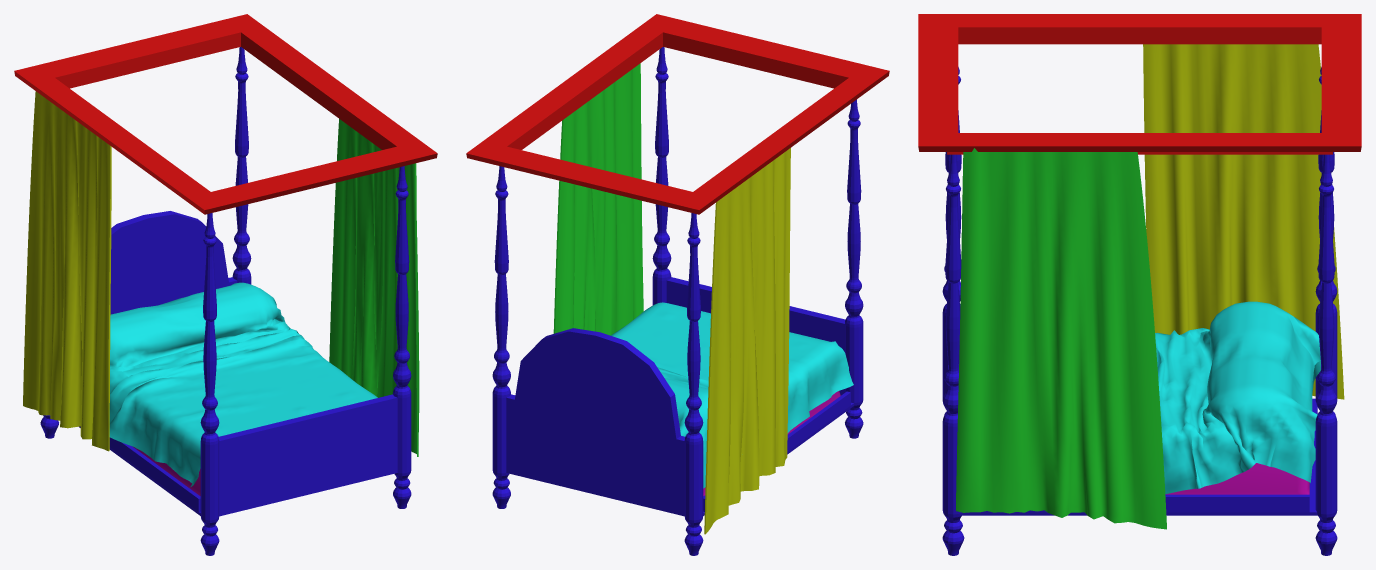
The model's file is Bed002.FBX.
3 renders of one model, left to right at view 1: azimuth 30°, elevation 25°; view 2: azimuth 150°, elevation 25°; view 3: azimuth 270°, elevation 25°, orthographic. The views are drawn at different scales.
Visible parts, largest first — view 1: bed_frame, bed_cover, bed_curtain, top_bed, bed_curtain2; view 2: bed_frame, bed_curtain, top_bed, bed_curtain2, bed_cover; view 3: bed_curtain2, bed_curtain, top_bed, bed_cover, bed_frame, mattress.
Part boxes in pixels (box(x1,y1,x2,y2)): bed_frame: box(40, 47, 411, 555); bed_cover: box(109, 282, 377, 486); bed_curtain: box(23, 91, 111, 451); top_bed: box(14, 14, 437, 214); bed_curtain2: box(329, 119, 419, 456); bed_frame: box(492, 47, 863, 555); bed_curtain: box(704, 148, 790, 534); top_bed: box(466, 14, 889, 214); bed_curtain2: box(553, 63, 643, 335); bed_cover: box(611, 302, 853, 488); bed_curtain2: box(956, 148, 1166, 529); bed_curtain: box(1143, 44, 1344, 399); top_bed: box(918, 14, 1361, 154); bed_cover: box(1155, 301, 1320, 494); bed_frame: box(942, 67, 1337, 555); mattress: box(1165, 463, 1309, 494).
Size of the model in its own units: 116 by 161 by 155.
